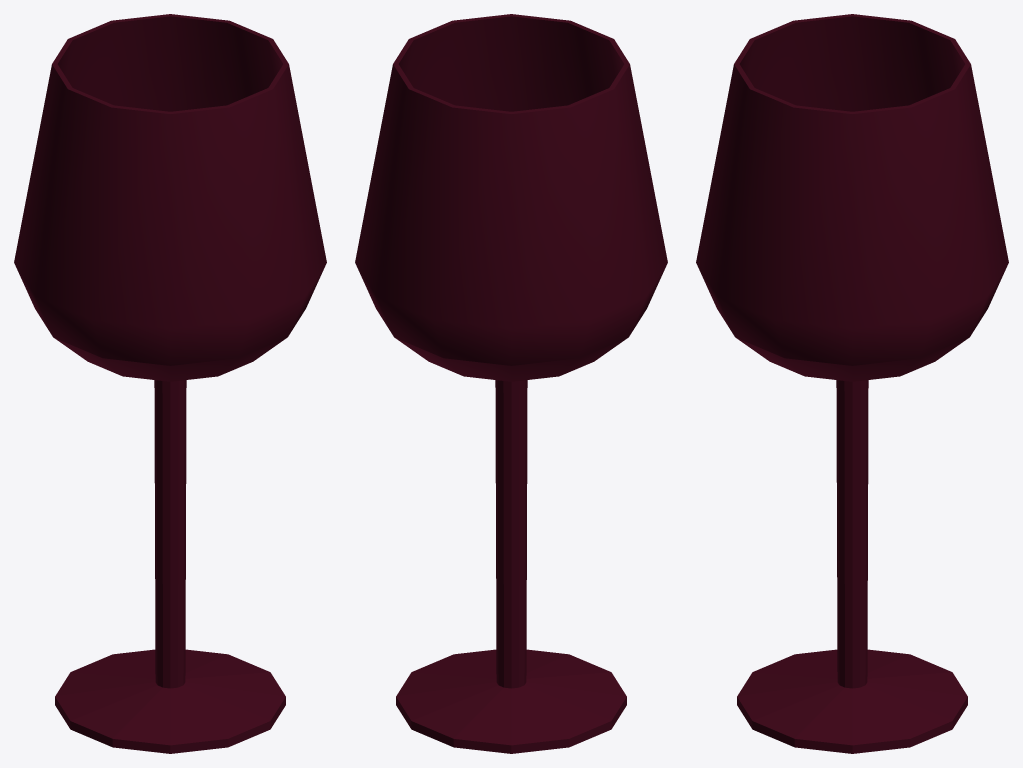
The model's file is Prop_Glass_Wine_v01.fbx.
The picture shows the model from 3 angles, left to right: view 1: azimuth 30°, elevation 25°; view 2: azimuth 150°, elevation 25°; view 3: azimuth 270°, elevation 25°; orthographic projection.
Parts seen in each view (by area): view 1: Rest_Bar_Set04_WineGlass_01; view 2: Rest_Bar_Set04_WineGlass_01; view 3: Rest_Bar_Set04_WineGlass_01.
Part boxes in pixels (box(x1,y1,x2,y2)): Rest_Bar_Set04_WineGlass_01: box(14, 14, 326, 753); Rest_Bar_Set04_WineGlass_01: box(355, 14, 667, 753); Rest_Bar_Set04_WineGlass_01: box(696, 14, 1008, 753).
Size of the model in its own units: 2.84 by 6.41 by 2.84.
